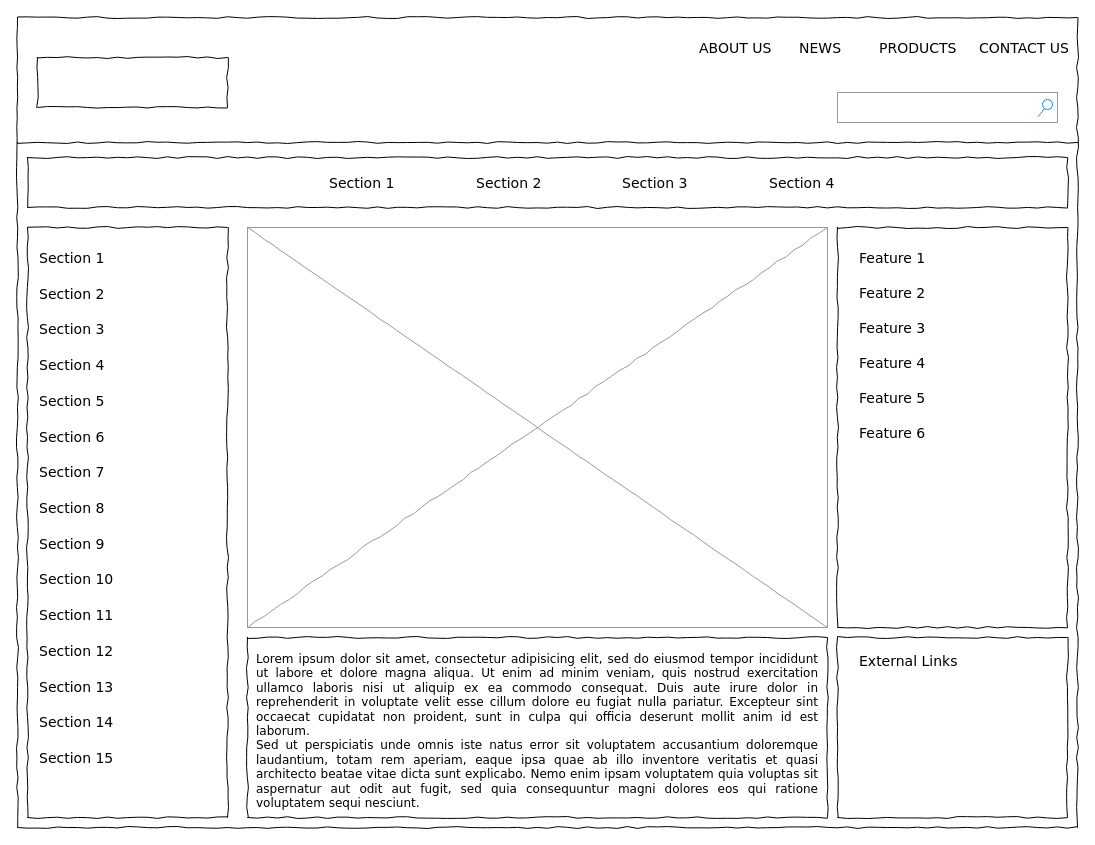
This 1095x845 diagram has some shape labels left out. The centre of each missing label's shape, as x and y in pixels:
"DEMO" goes at (132,82).
"Search" goes at (947,107).
